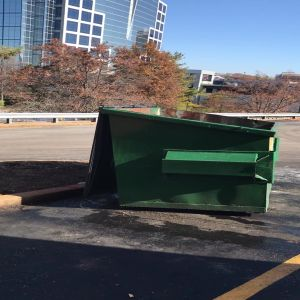Dumpster: (85, 104, 284, 218)
